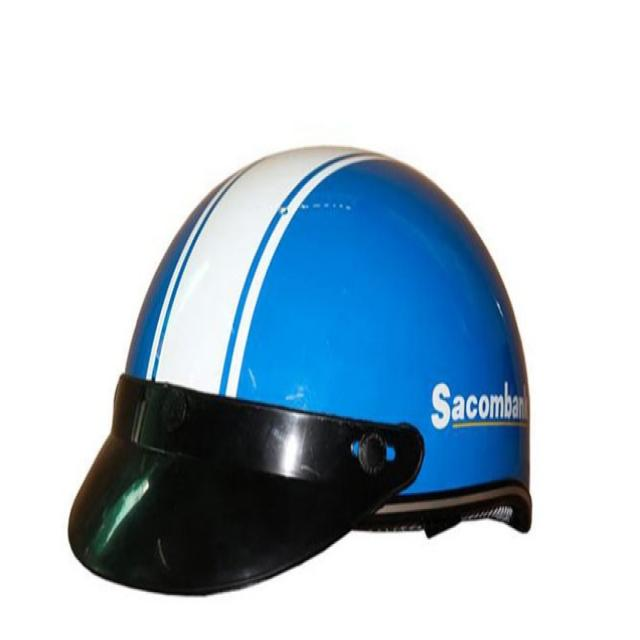Helmet: (64, 126, 538, 604)
